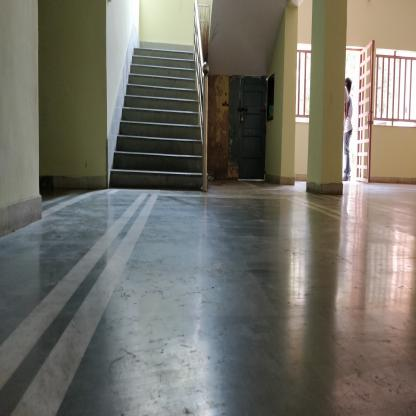stairs: (133, 46, 193, 198)
